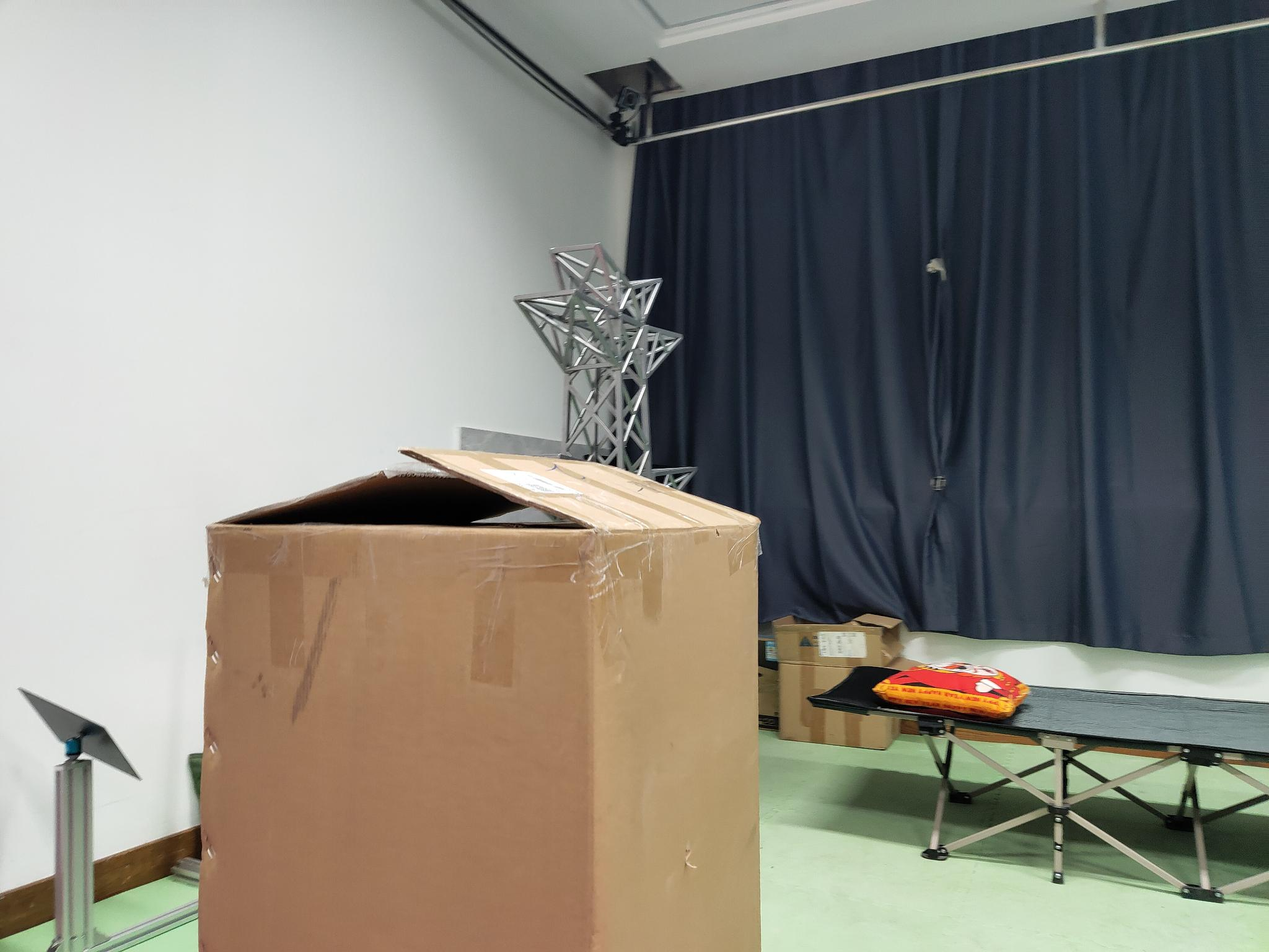tower: (516, 240, 701, 473)
